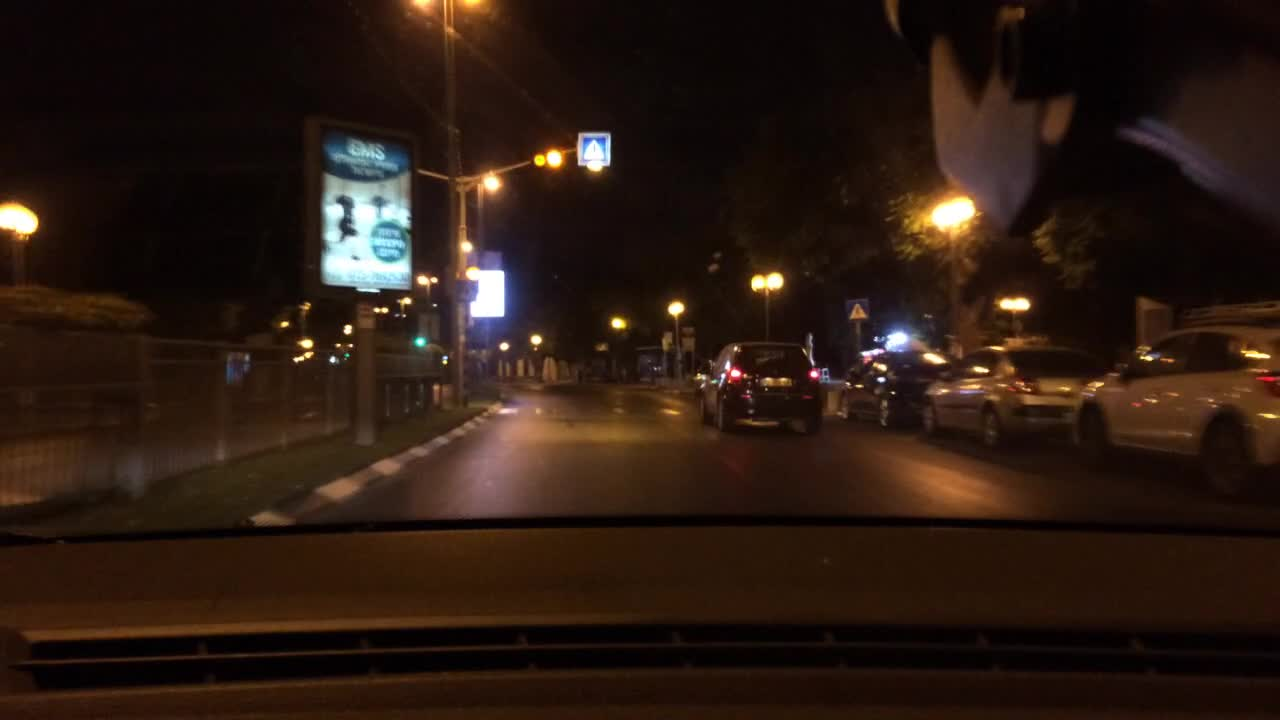car: (1067, 315, 1279, 502), (915, 343, 1103, 454), (692, 337, 825, 437), (831, 344, 956, 434)
traffic sign: (465, 269, 505, 317), (577, 132, 610, 165), (417, 310, 440, 339), (845, 298, 866, 320), (356, 303, 374, 326), (678, 338, 696, 350)
